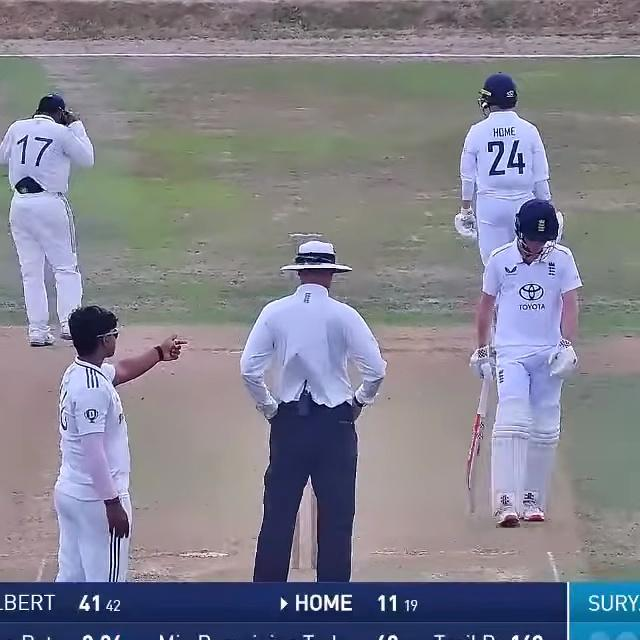umpire: (232, 225, 397, 586)
